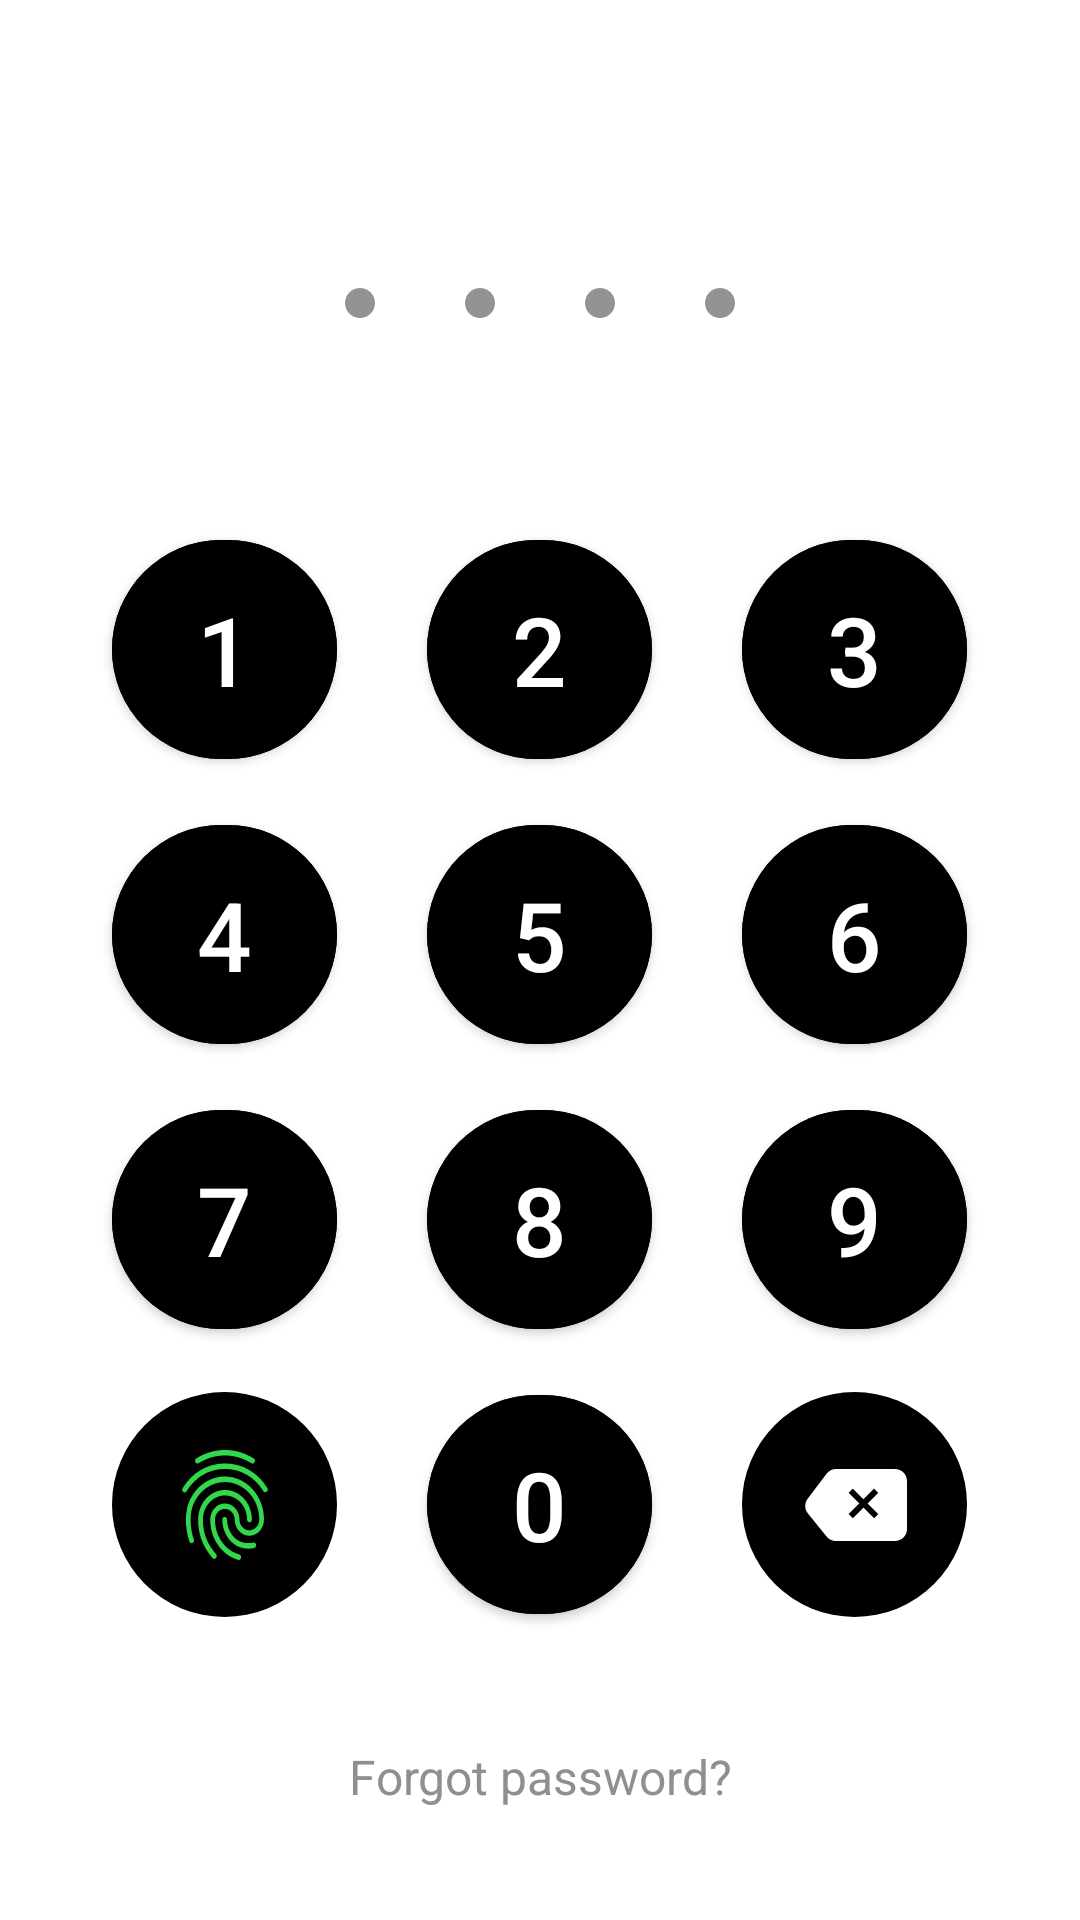

Icon bounding boxes for this 1080w x 1920h phone screenshot, format (x1,y1,x2,y2):
delete: (742,1392,967,1617)
fingerprint: (112,1392,337,1617)
